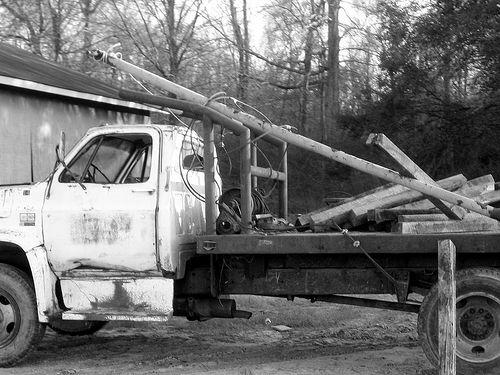truck: (0, 47, 500, 375)
